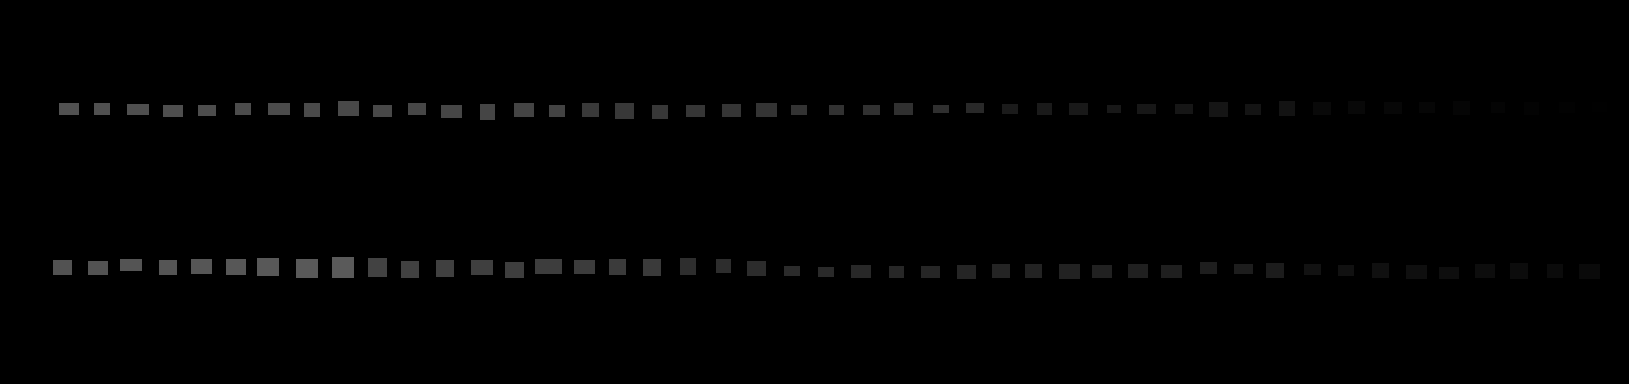light: (332, 257, 354, 278), (296, 259, 318, 278), (257, 258, 279, 276), (535, 259, 562, 274), (368, 258, 388, 277), (1059, 264, 1080, 279), (338, 101, 359, 116), (471, 260, 493, 275), (1579, 264, 1600, 279), (1406, 265, 1427, 279), (401, 260, 419, 278), (1510, 263, 1528, 279), (615, 103, 634, 119), (505, 262, 524, 278), (226, 259, 246, 275), (756, 103, 777, 117), (191, 259, 212, 274), (440, 105, 462, 118), (643, 259, 661, 276), (436, 260, 454, 277), (1209, 102, 1228, 117), (747, 260, 766, 276), (1475, 264, 1495, 278), (1128, 264, 1148, 278), (514, 103, 534, 117), (88, 260, 108, 275), (1161, 265, 1182, 278), (575, 260, 595, 274), (1266, 263, 1284, 278), (609, 259, 626, 275), (957, 265, 976, 279), (268, 103, 290, 115), (53, 260, 72, 275), (1092, 265, 1112, 278), (851, 265, 871, 278), (1372, 263, 1389, 278), (1279, 101, 1296, 116), (680, 258, 696, 275), (992, 264, 1010, 278), (582, 103, 599, 117), (159, 260, 177, 275), (722, 104, 741, 117), (127, 104, 149, 115), (121, 259, 142, 271), (1439, 267, 1459, 279), (686, 105, 705, 117), (163, 105, 183, 117), (59, 103, 79, 115), (1453, 101, 1470, 115), (1025, 264, 1042, 278), (480, 104, 495, 120), (1313, 102, 1331, 115), (1384, 102, 1403, 114), (1069, 103, 1088, 115), (922, 266, 940, 278), (894, 103, 913, 115), (373, 105, 392, 117), (1547, 264, 1563, 278), (652, 105, 668, 119), (304, 103, 320, 117), (1348, 101, 1365, 114), (408, 103, 426, 115), (716, 259, 731, 273), (1200, 262, 1217, 274), (549, 105, 565, 117), (235, 103, 251, 115), (94, 103, 110, 115), (1137, 104, 1156, 114), (1304, 264, 1321, 275), (198, 105, 216, 116), (1524, 102, 1539, 115), (1037, 103, 1052, 115), (1234, 264, 1253, 274), (1245, 104, 1261, 115), (1175, 104, 1193, 114), (966, 103, 984, 113), (889, 266, 904, 278), (1559, 102, 1575, 113), (1419, 102, 1435, 113), (1338, 265, 1354, 276), (1002, 104, 1018, 114), (818, 267, 834, 277), (863, 105, 880, 115), (791, 105, 807, 115), (1491, 102, 1505, 113), (1592, 102, 1607, 112), (784, 266, 800, 276), (829, 105, 844, 115), (933, 105, 949, 113), (1107, 105, 1121, 113)
